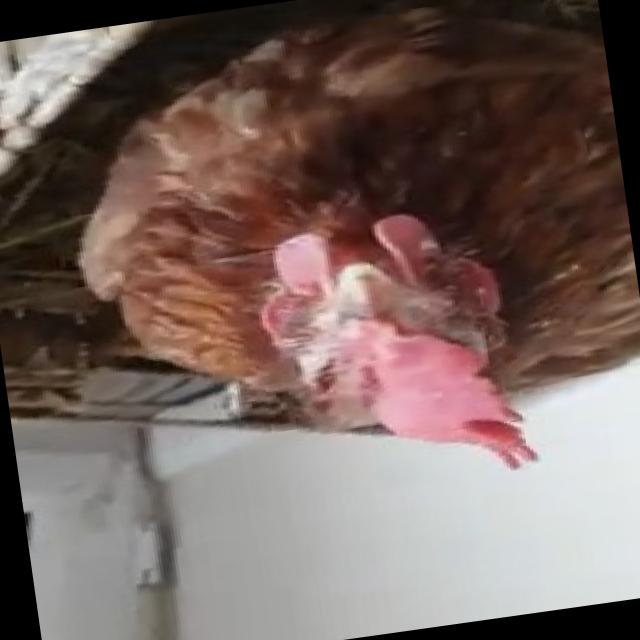Breathing: (43, 0, 640, 529)
